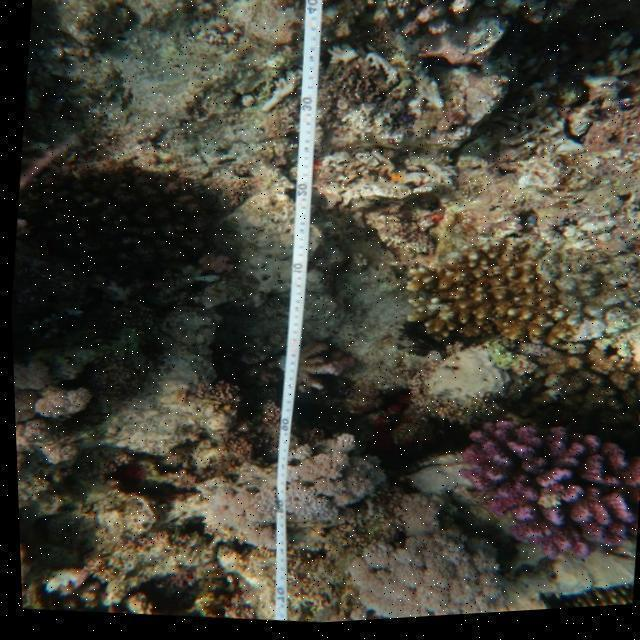Healthy Coral: (439, 403, 640, 573), (388, 237, 584, 371)
